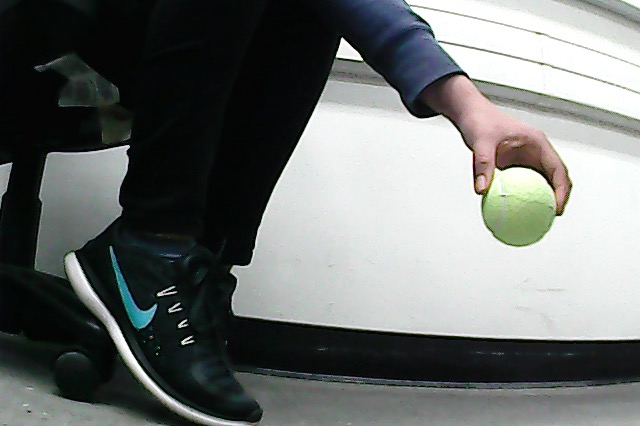ball: (482, 168, 557, 248)
